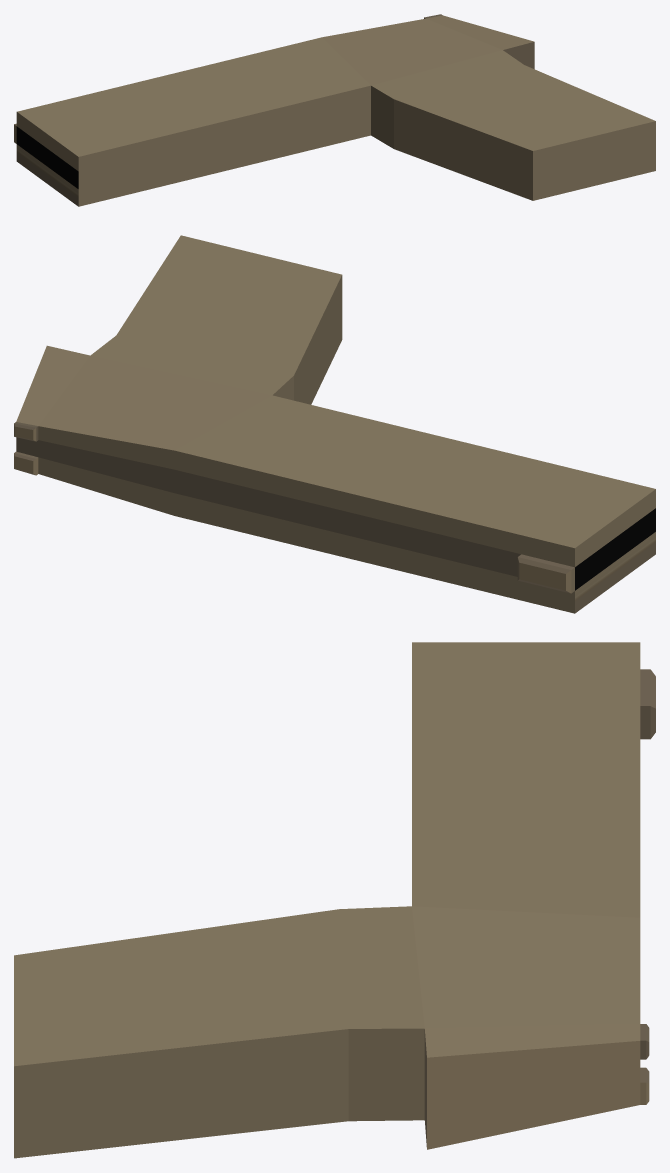
Rendered from Pistol_model.glb.
The picture shows the model from 3 angles, top to bottom: view 1: azimuth 30°, elevation 25°; view 2: azimuth 150°, elevation 25°; view 3: azimuth 270°, elevation 25°; orthographic projection. The views are drawn at different scales.
Parts seen in each view (by area): view 1: Plane; view 2: Plane; view 3: Plane.
Boxes of the visible parts, <box> form: Plane: <box>14,14,655,206</box>; Plane: <box>14,235,655,613</box>; Plane: <box>14,642,655,1158</box>.
Bounding box in the file's own units: 4.32 × 0.4381 × 2.77.
1 material, 1 textured.
